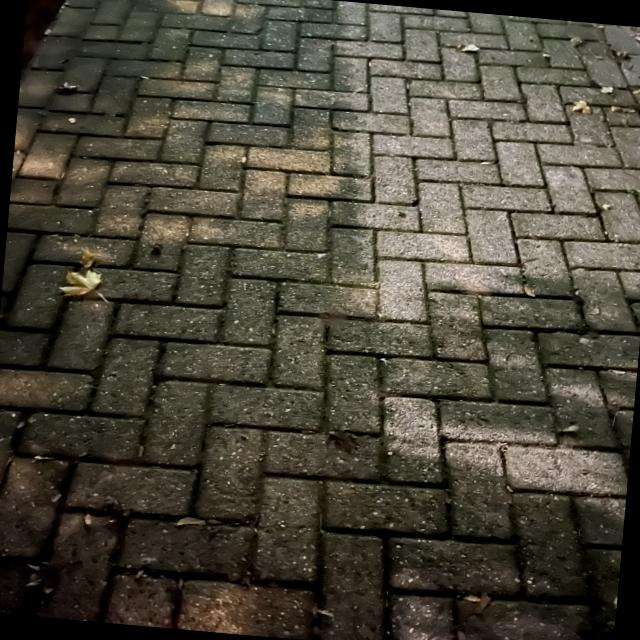leaves: (57, 260, 117, 304), (562, 94, 603, 118), (452, 40, 483, 54)
pavement: (0, 0, 639, 639)
